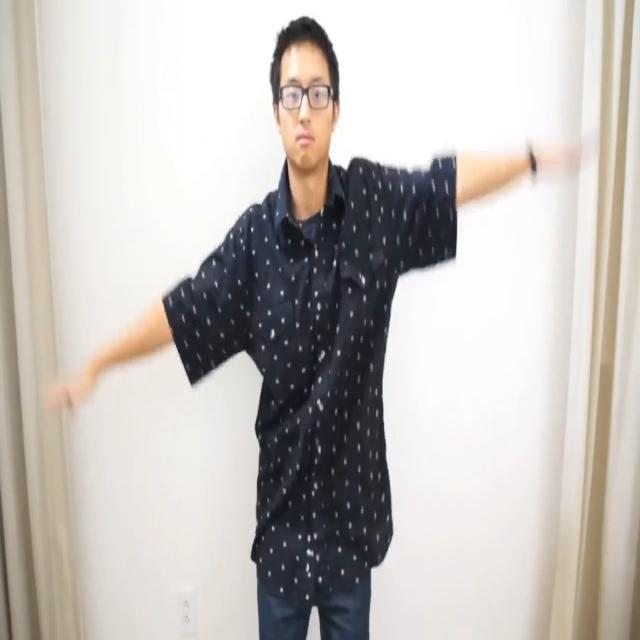Shirt: (160, 148, 458, 604)
